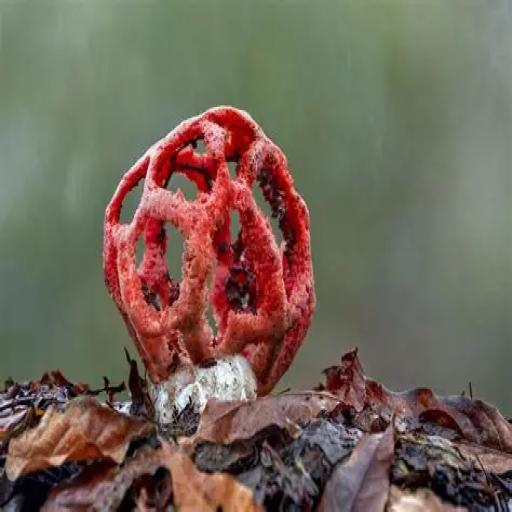Red Cage Fungus: (98, 99, 323, 428)
